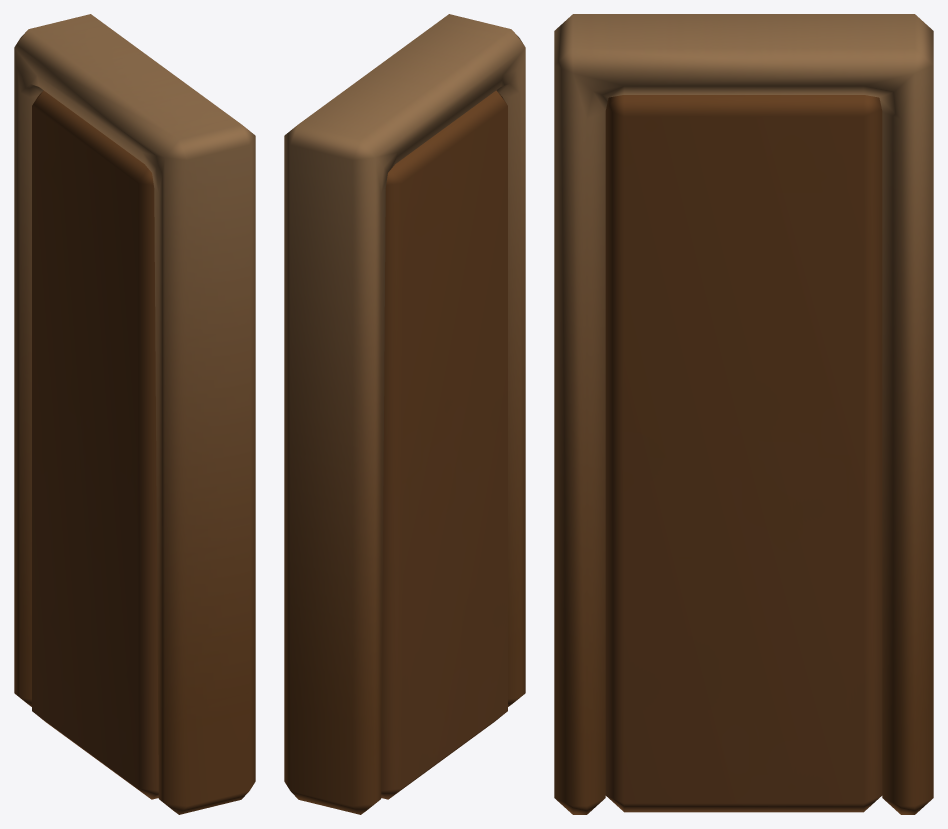
The model's file is SM_Clay_Door_05.fbx.
3 views of the same model, side by side, from view 1: azimuth 30°, elevation 25°; view 2: azimuth 150°, elevation 25°; view 3: azimuth 270°, elevation 25° (orthographic). The views are drawn at different scales.
Visible parts, largest first — view 1: SM_Clay_Door_05; view 2: SM_Clay_Door_05; view 3: SM_Clay_Door_05.
Boxes of the visible parts, bbox=[...] form: SM_Clay_Door_05: bbox=[14, 14, 255, 814]; SM_Clay_Door_05: bbox=[284, 14, 525, 814]; SM_Clay_Door_05: bbox=[554, 14, 933, 814].
Bounding box in the file's own units: 0.0968 × 0.653 × 0.2927.
